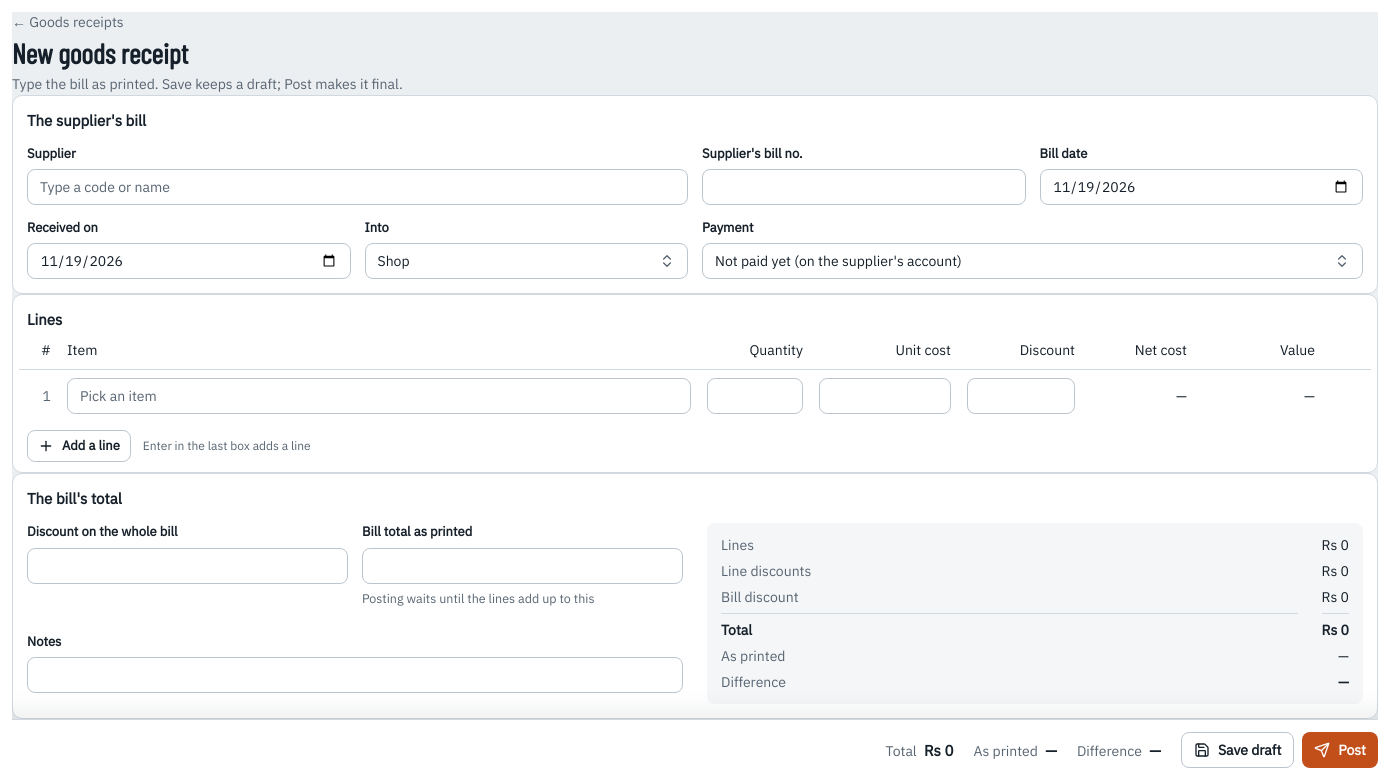
Test: a goods receipt › refuses to save a new receipt with no item on any line
Click the button "Save draft" at (1238, 750), box left=1181, top=732, right=1294, bottom=768
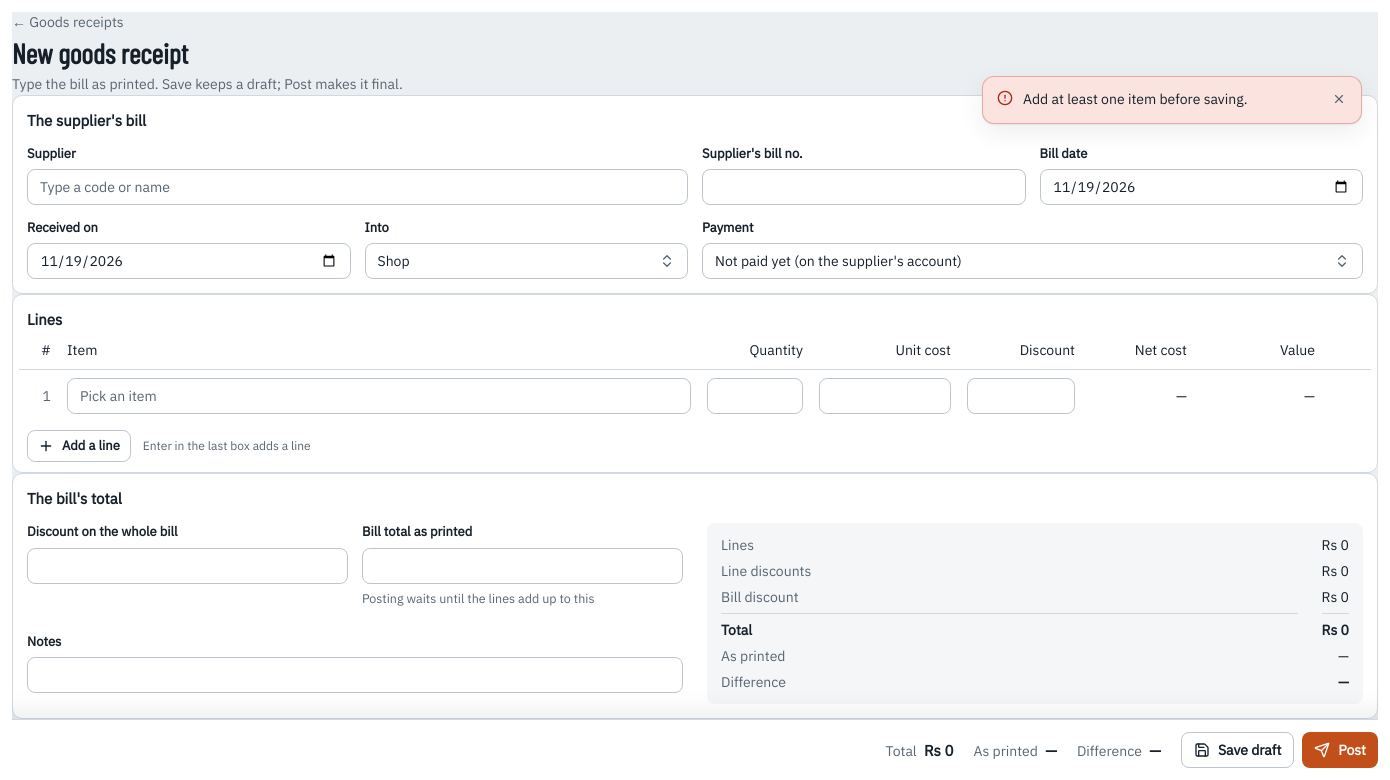
Now the text "Add at least one item before saving." is shown, box left=1023, top=90, right=1248, bottom=108
